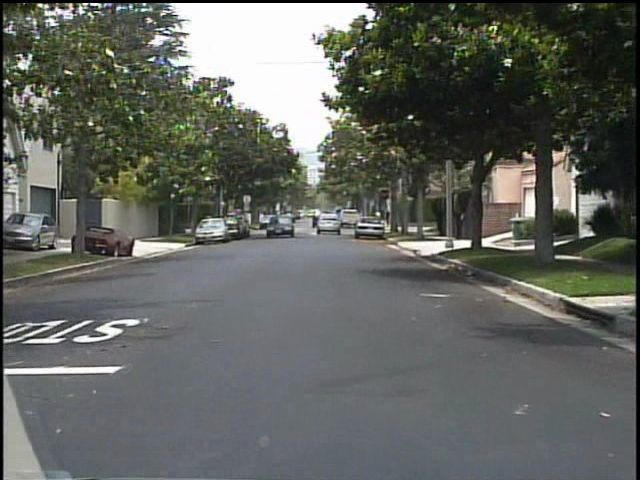person: (451, 199, 470, 243), (202, 208, 216, 233)
